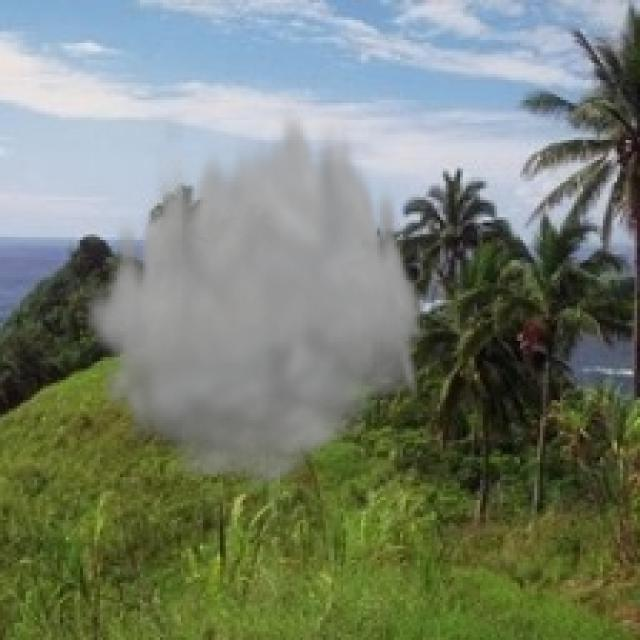Smoke: (80, 100, 426, 494)
